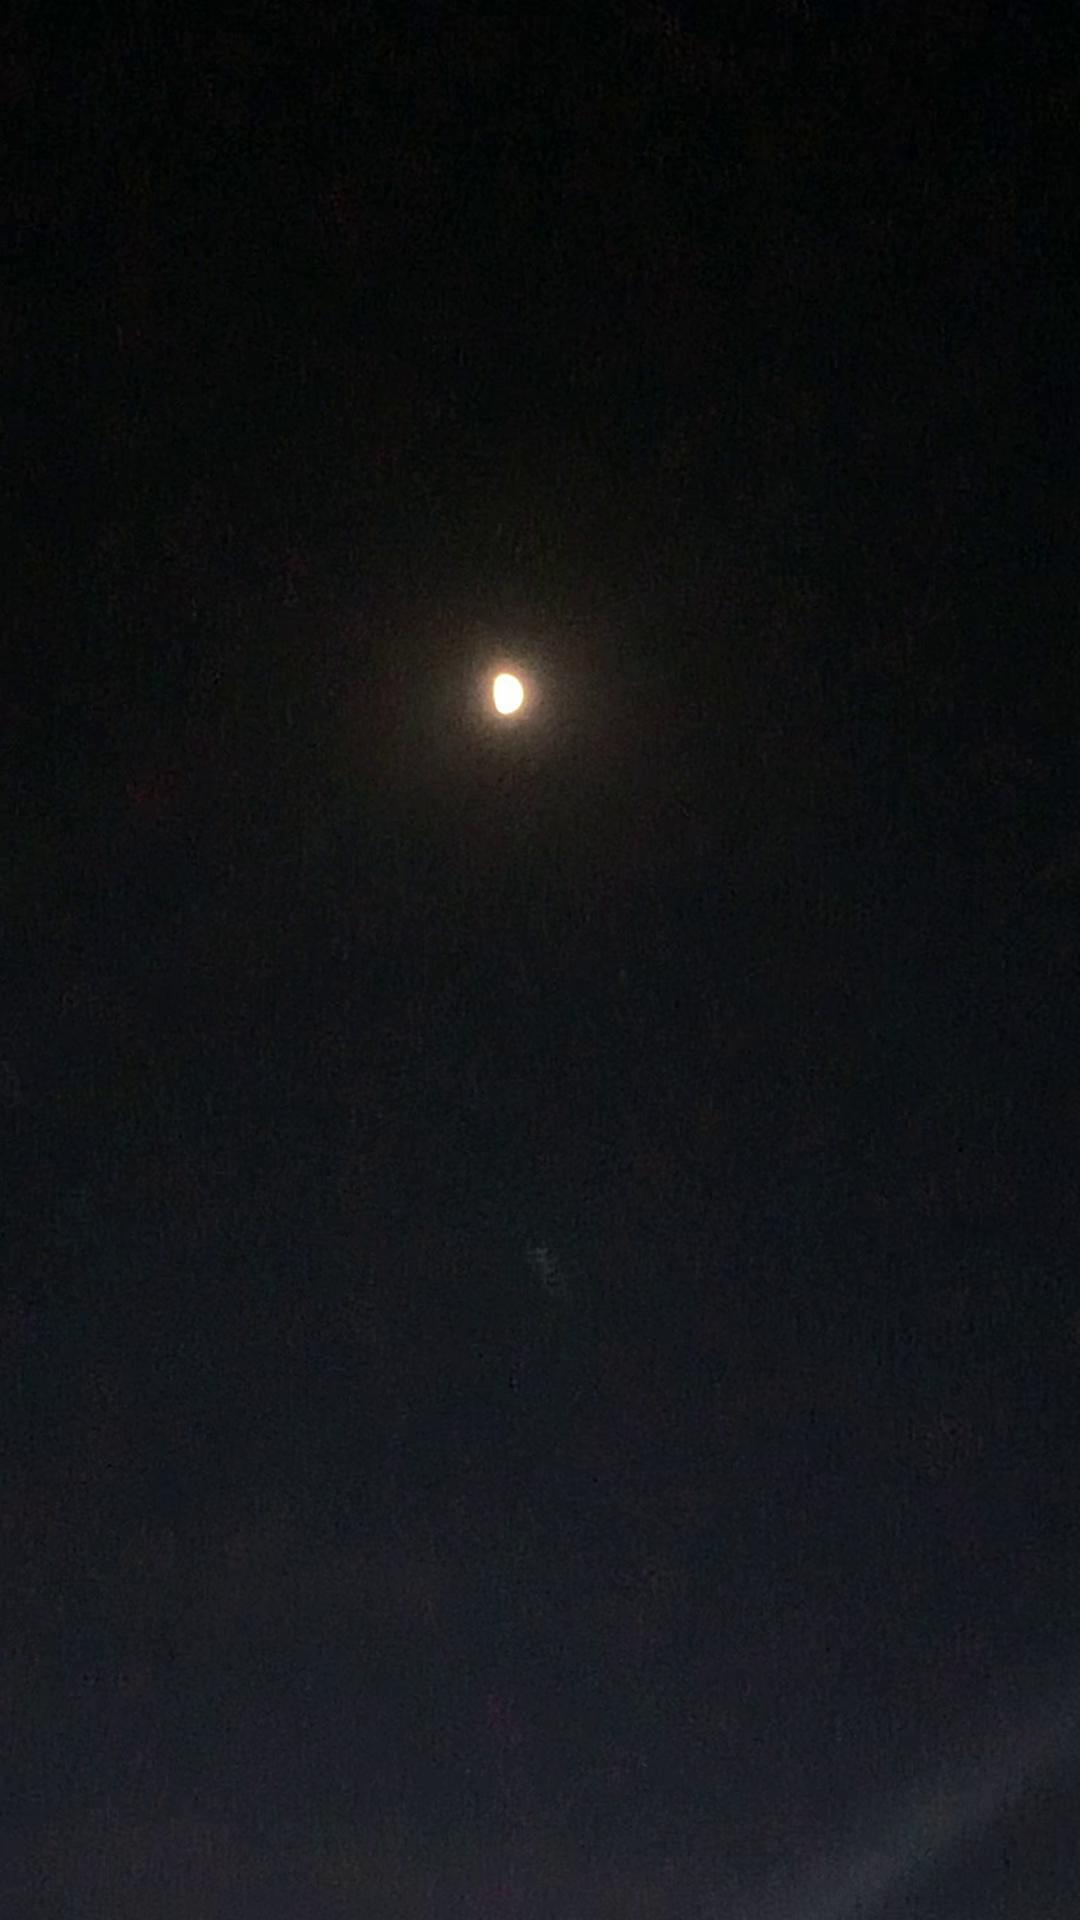moon: (465, 636, 549, 732)
